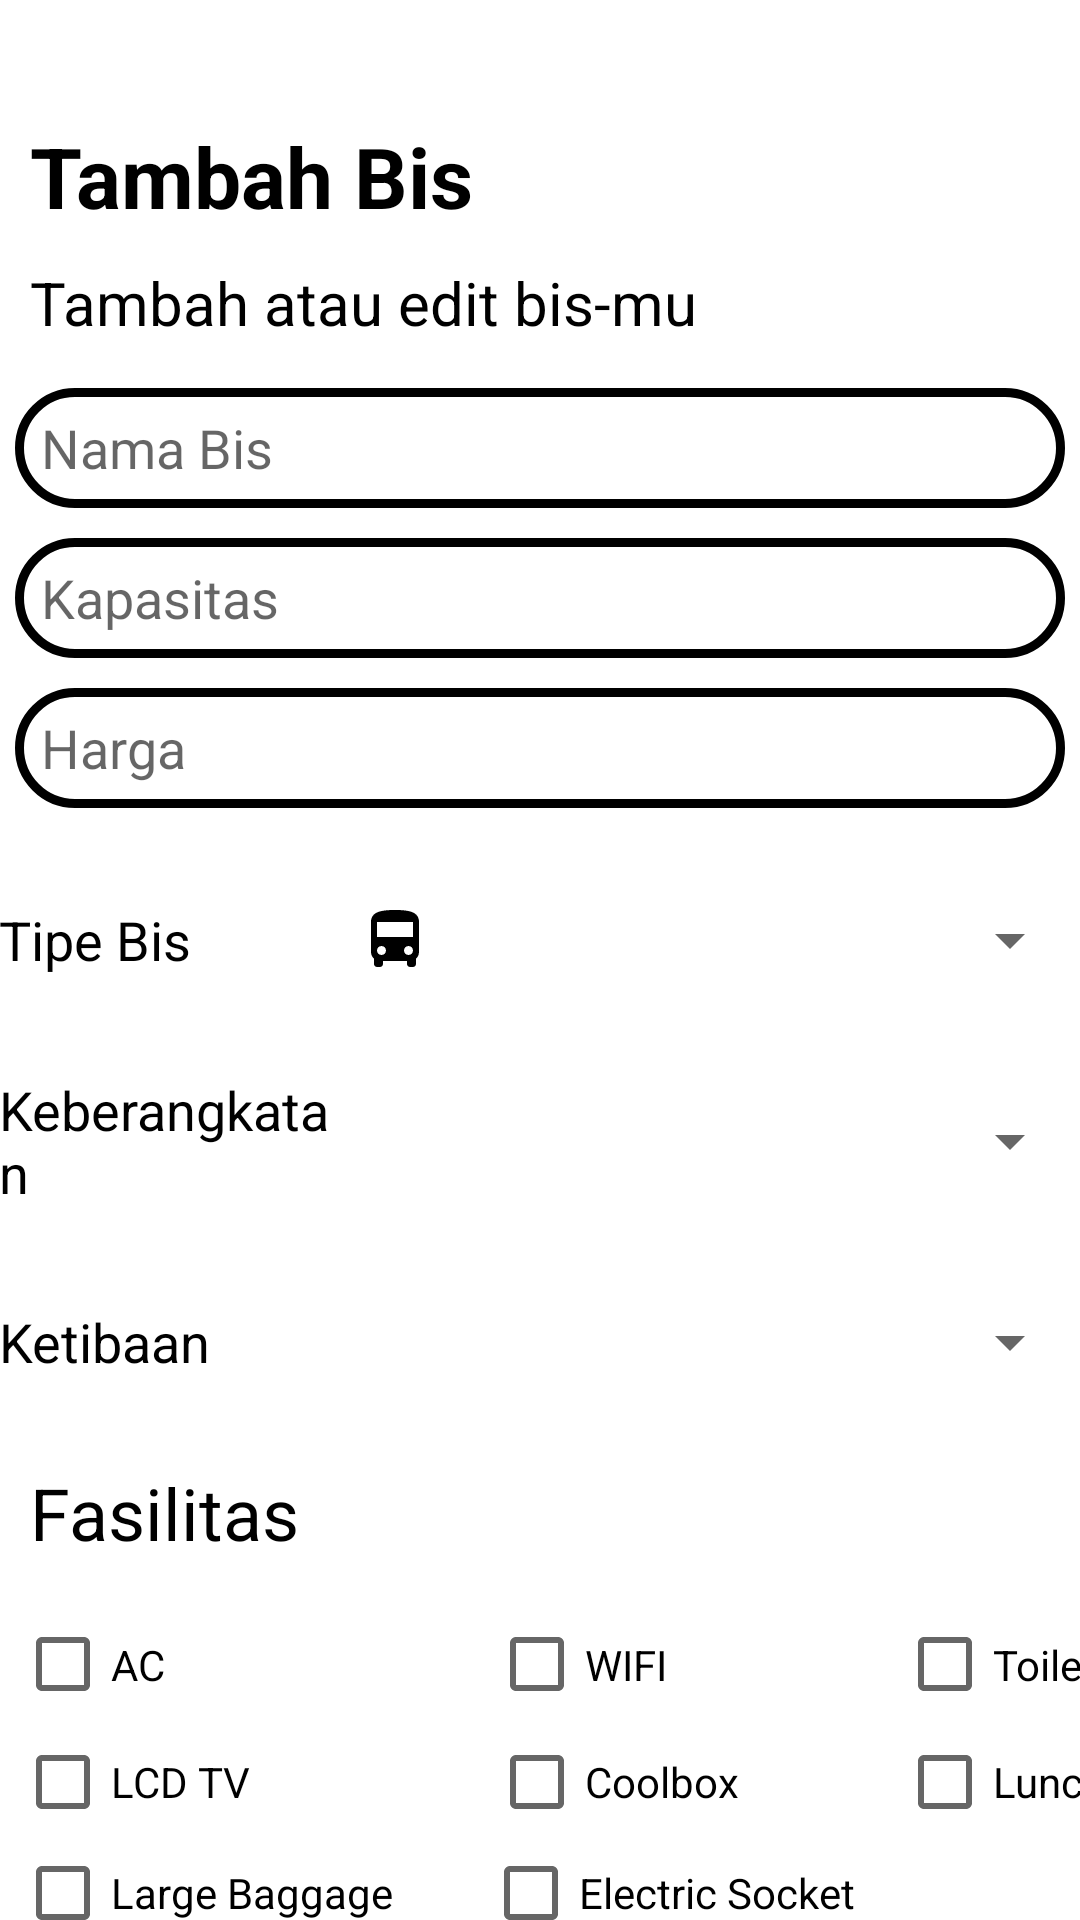

Named icons in this screenshot (1080px×1920px) and their centers, [x,y]:
directions bus: [395,938]
